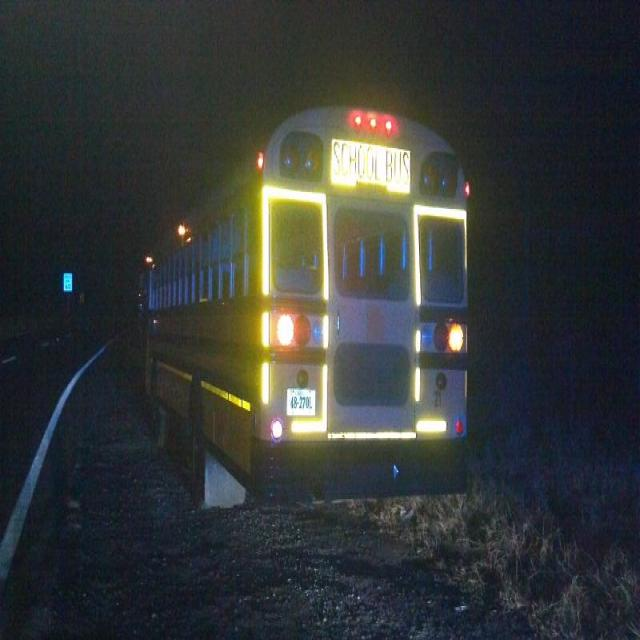Bus: (118, 99, 496, 549)
